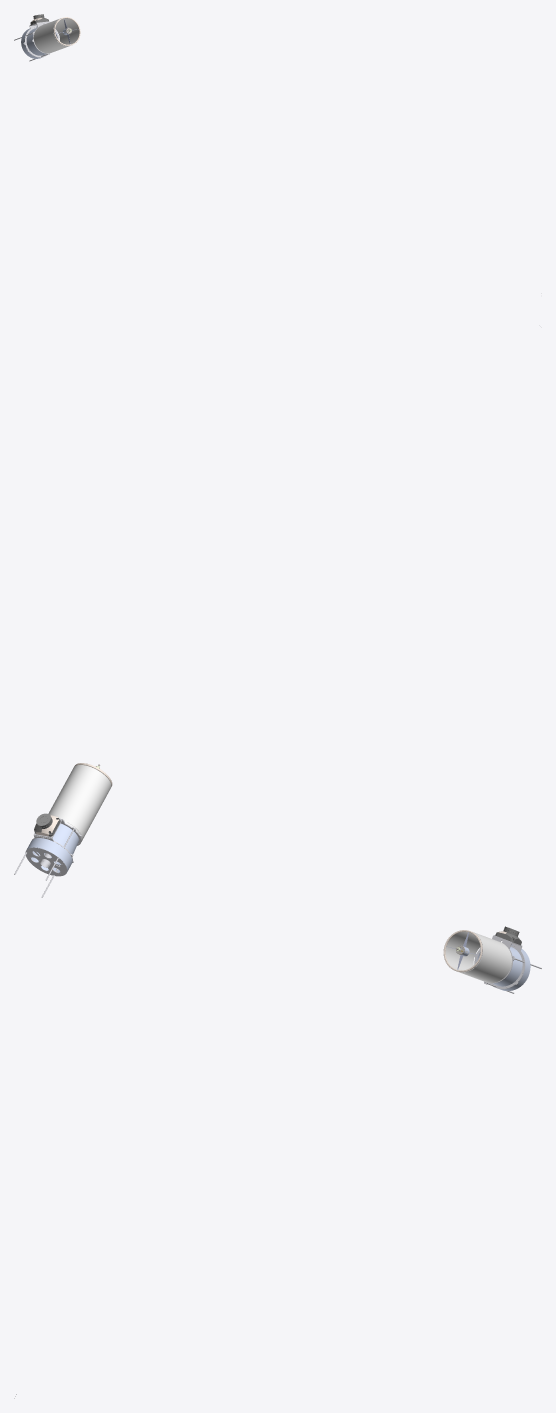
The model's file is seperate-2-simplified v7.fbx.
3 renders of one model, top to bottom at view 1: azimuth 30°, elevation 25°; view 2: azimuth 150°, elevation 25°; view 3: azimuth 330°, elevation 25°, orthographic. The views are drawn at different scales.
Parts seen in each view (by area): view 1: Body1; view 2: Body1; view 3: Body1.
Part boxes in pixels (box(x1,y1,x2,y2)): Body1: box(33, 18, 78, 53); Body1: box(48, 765, 111, 841); Body1: box(445, 931, 511, 982).
Bounding box in the file's own units: 2.43 × 1.57 × 18.3.
